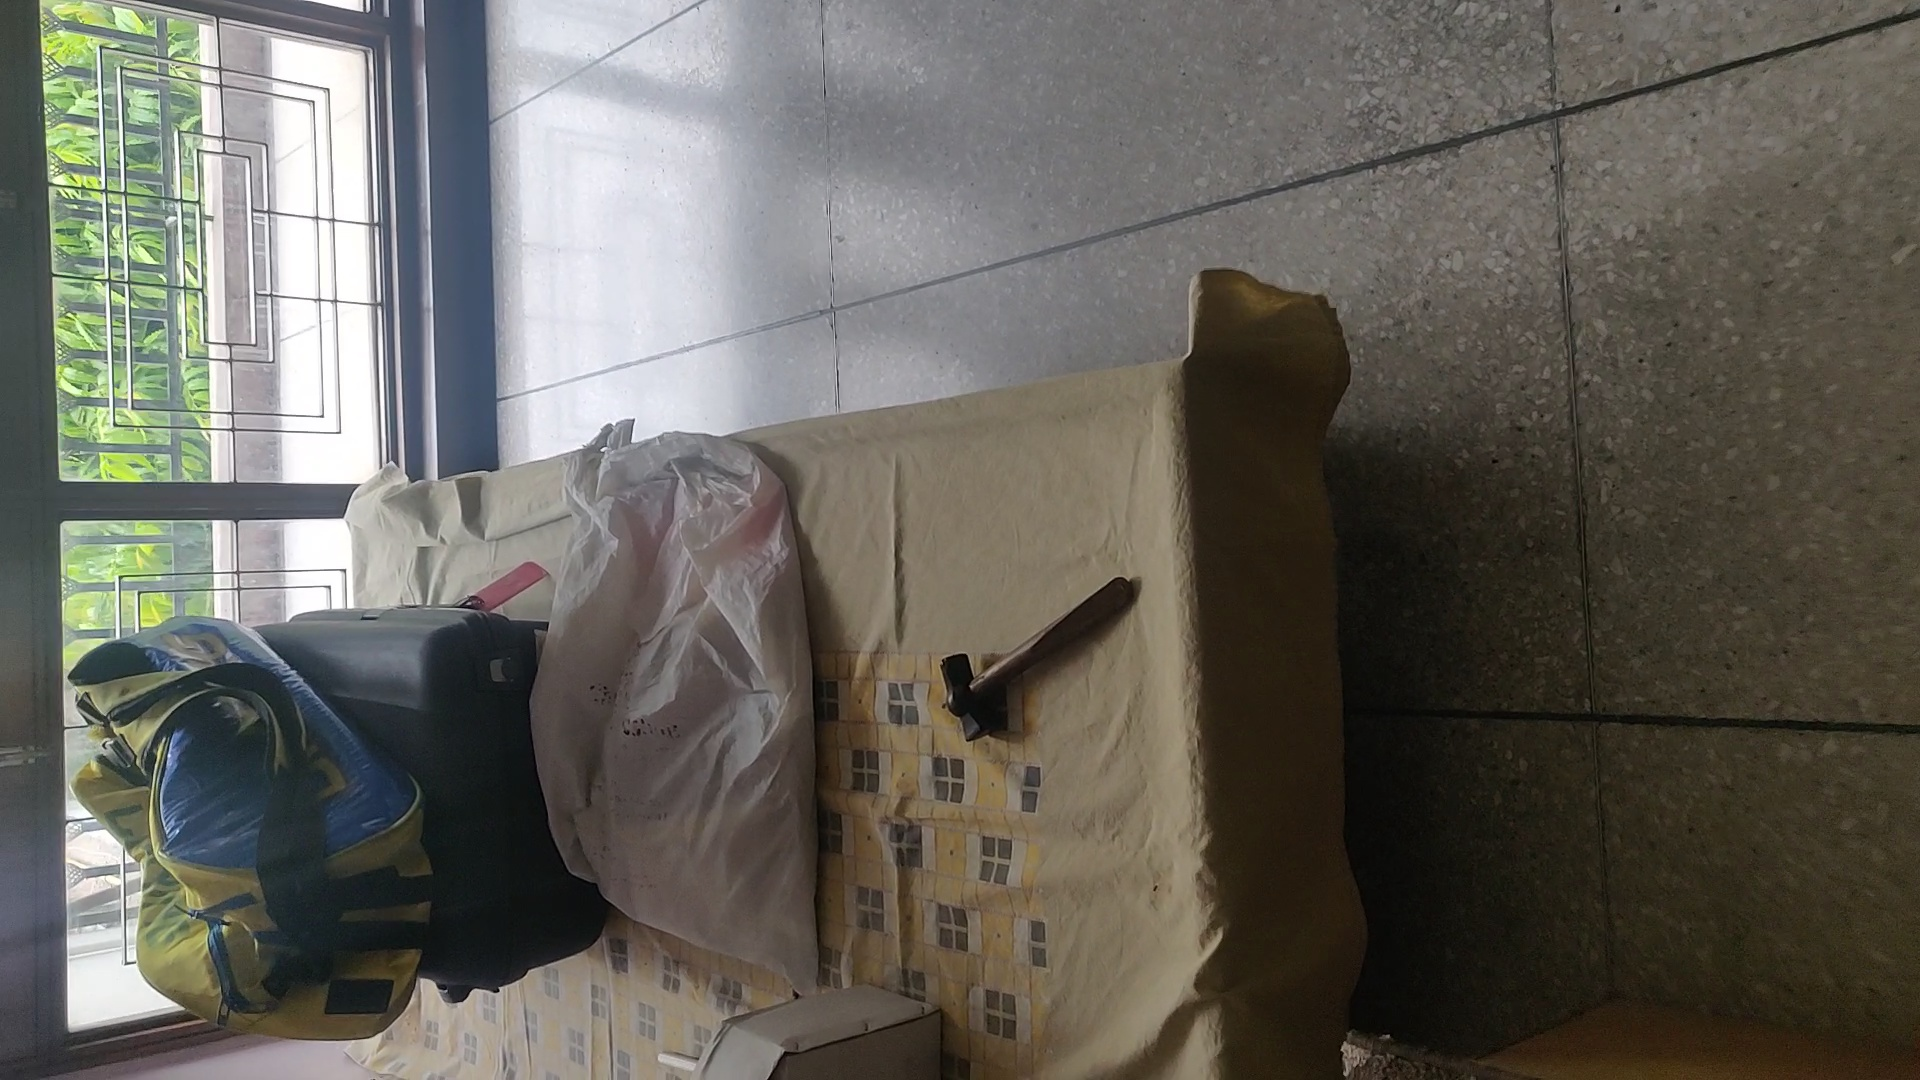hammer: (936, 574, 1141, 748)
